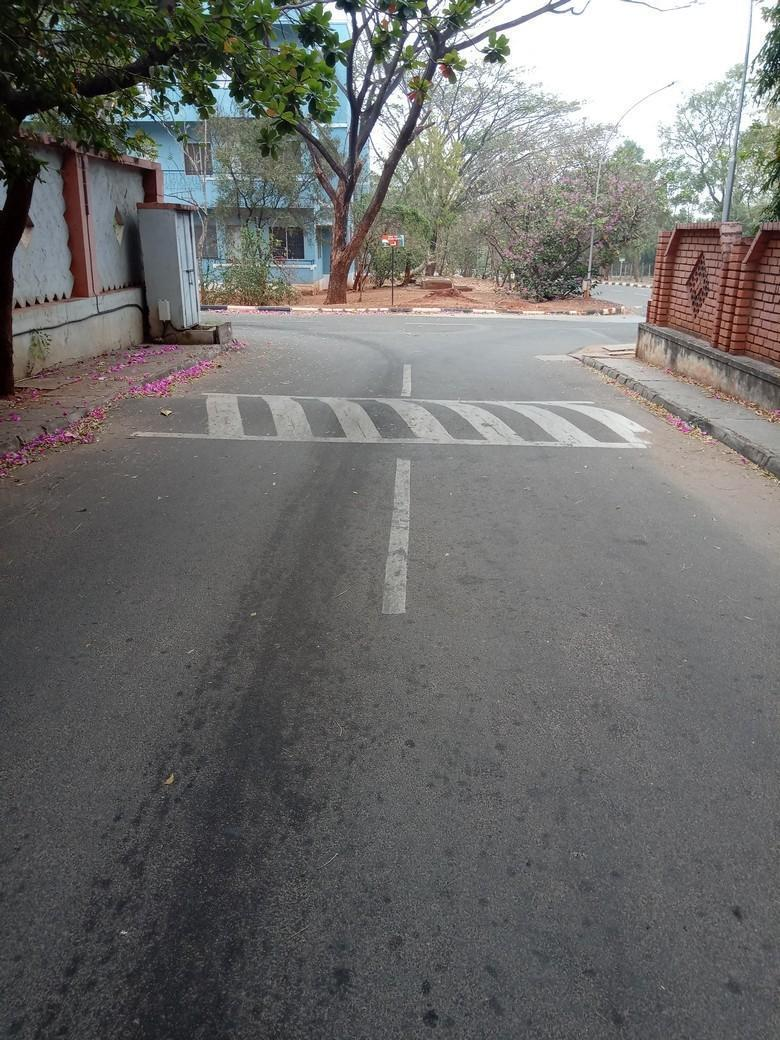speedbreaker: (98, 394, 670, 444)
